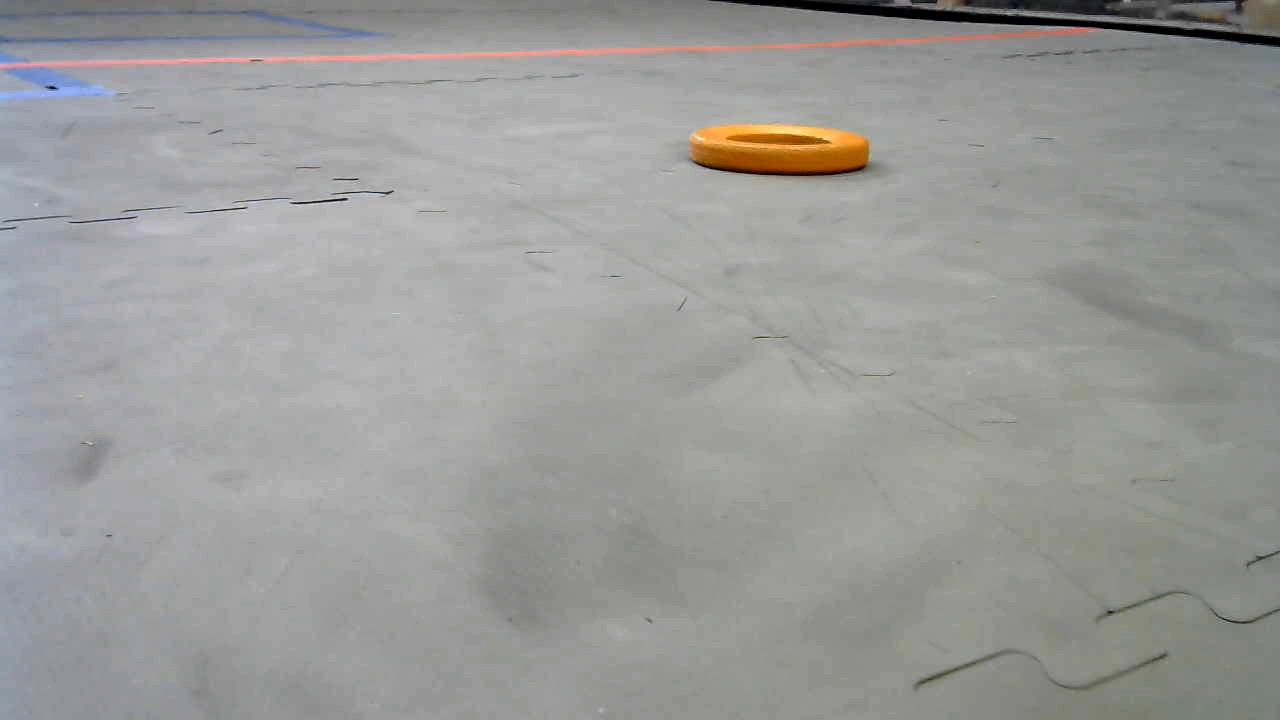OneStack: (689, 124, 869, 175)
